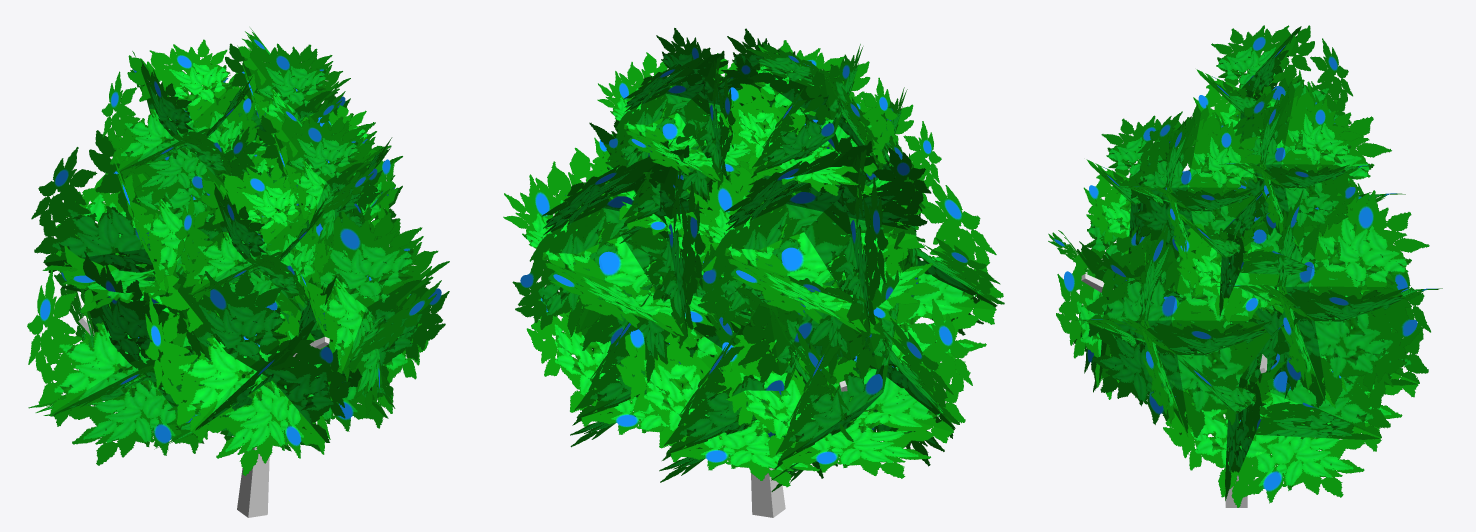
The model's file is Bush2.fbx.
The picture shows the model from 3 angles, left to right: view 1: azimuth 30°, elevation 25°; view 2: azimuth 150°, elevation 25°; view 3: azimuth 270°, elevation 25°; orthographic projection. The views are drawn at different scales.
Parts seen in each view (by area): view 1: Plane.008, Plane.005; view 2: Plane.008, Plane.005; view 3: Plane.008, Plane.005.
Boxes of the visible parts, x1=… form: Plane.008: x1=27, y1=28, x2=449, y2=475; Plane.005: x1=78, y1=317, x2=329, y2=517; Plane.008: x1=503, y1=28, x2=1004, y2=491; Plane.005: x1=652, y1=285, x2=847, y2=517; Plane.008: x1=1048, y1=25, x2=1442, y2=507; Plane.005: x1=1081, y1=273, x2=1267, y2=507.
Bounding box in the file's own units: 222 × 248 × 212.
